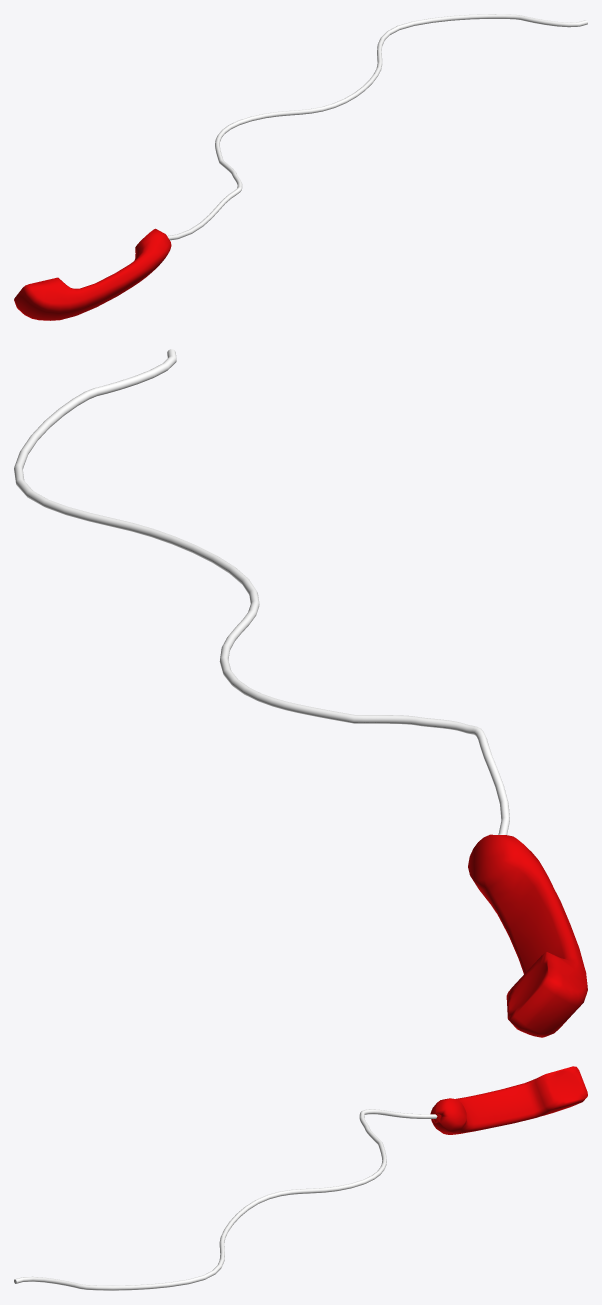
Rendered from contactttrr.glb.
3 views of the same model, one above another, from view 1: azimuth 90°, elevation 25°; view 2: azimuth 150°, elevation 25°; view 3: azimuth 270°, elevation 25° (orthographic). The views are drawn at different scales.
Visible parts, largest first — view 1: Phone; view 2: Phone; view 3: Phone.
Part boxes in pixels (x1,y1,x2,y2): Phone: (14, 14, 587, 320); Phone: (14, 349, 587, 1037); Phone: (14, 1066, 587, 1290).
Size of the model in its own units: 8.67 by 1.1 by 8.39.
